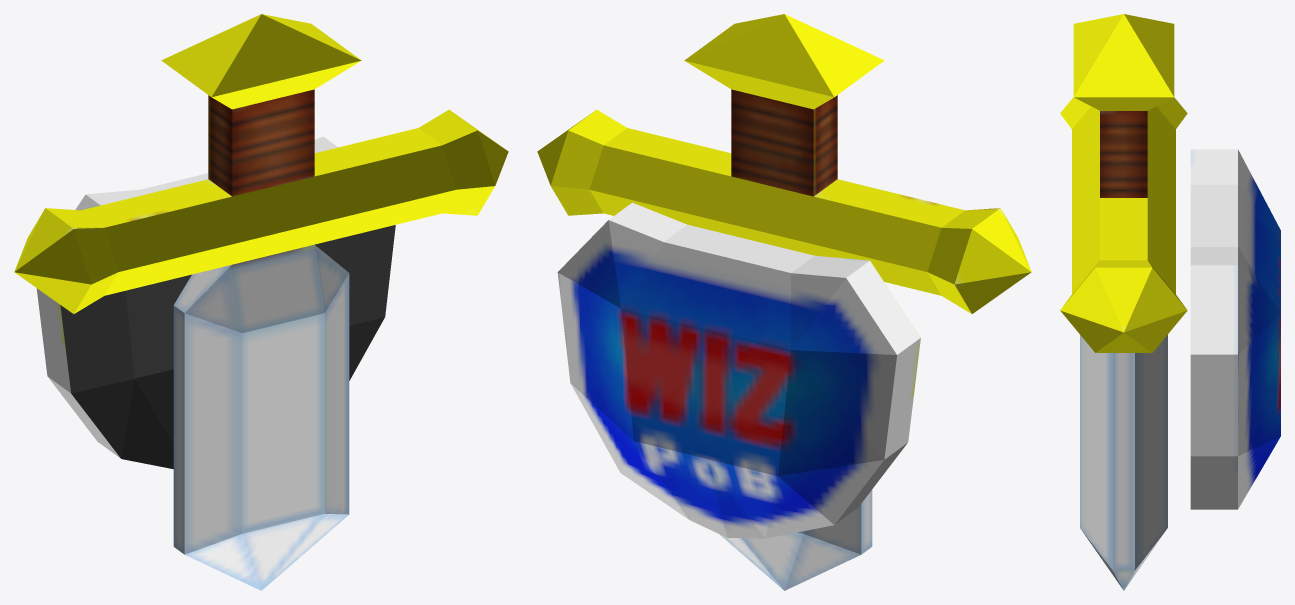
The model's file is wiz.ico.obj.
3 views of the same model, side by side, from view 1: azimuth 30°, elevation 25°; view 2: azimuth 150°, elevation 25°; view 3: azimuth 270°, elevation 25° (orthographic).
Size of the model in its own units: 4.35 by 4.85 by 1.68.
1 material, 1 textured.
